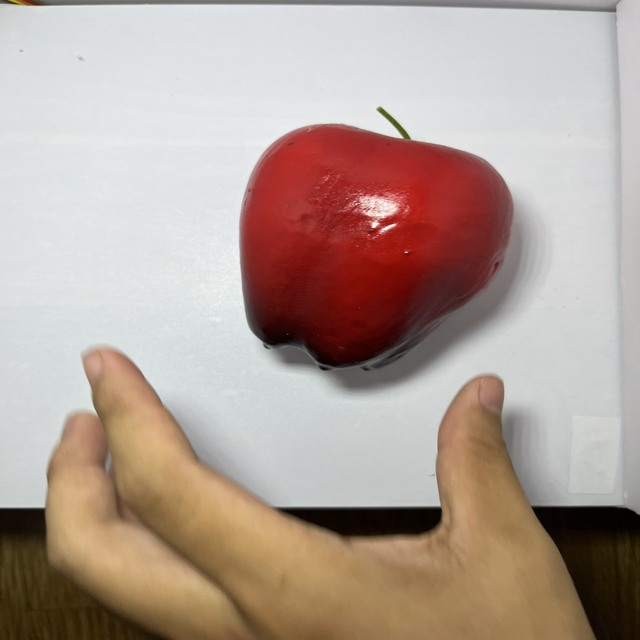Tao: (236, 114, 520, 378)
